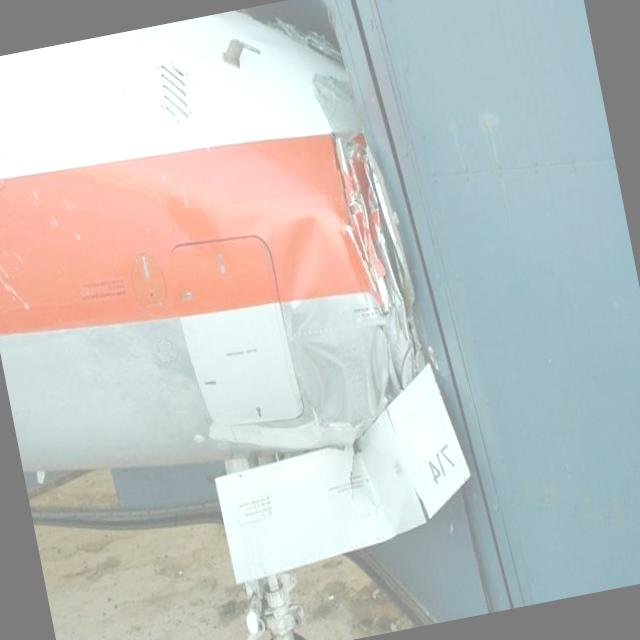crack: (333, 128, 419, 374)
dent: (272, 213, 366, 431), (320, 412, 425, 552)
